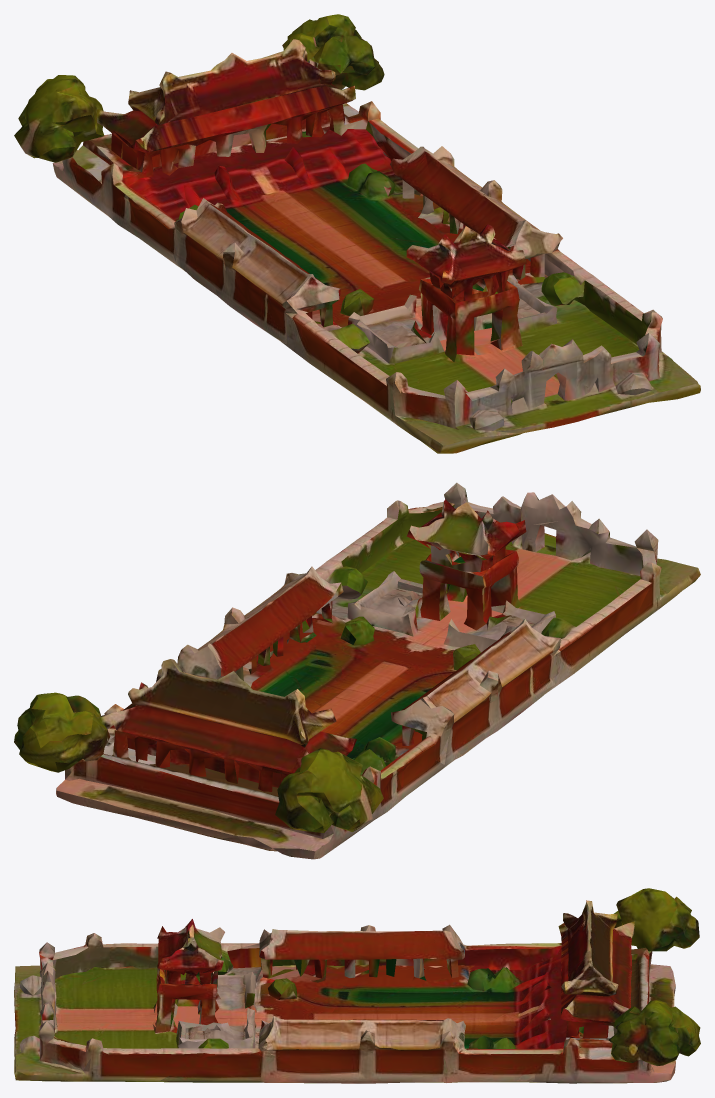
The model's file is temple-literature-hanoi.glb.
3 views of the same model, one above another, from view 1: azimuth 30°, elevation 25°; view 2: azimuth 150°, elevation 25°; view 3: azimuth 270°, elevation 25° (orthographic). The views are drawn at different scales.
Visible parts, largest first — view 1: logan-textured.obj; view 2: logan-textured.obj; view 3: logan-textured.obj.
Part boxes in pixels (left/top/right/bottom): logan-textured.obj: left=14, top=14, right=700, bottom=453; logan-textured.obj: left=14, top=482, right=700, bottom=859; logan-textured.obj: left=14, top=888, right=700, bottom=1083.
Size of the model in its own units: 0.4923 by 0.1712 by 1.
Materials: 1 (1 with a texture image).
